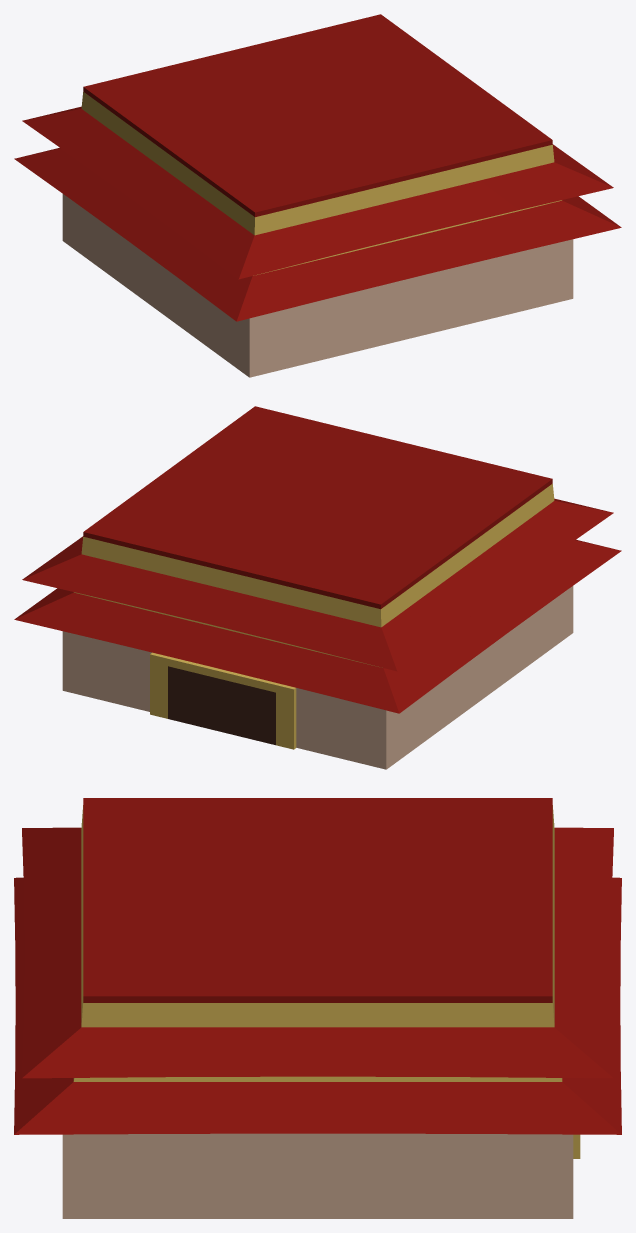
Rendered from temple.fbx.
3 views of the same model, one above another, from view 1: azimuth 30°, elevation 25°; view 2: azimuth 150°, elevation 25°; view 3: azimuth 270°, elevation 25° (orthographic). The views are drawn at different scales.
Parts seen in each view (by area): view 1: roof, temple; view 2: roof, temple, door; view 3: roof, temple.
Boxes of the visible parts, x1,y1,x2,y2 form: roof: (14, 14, 621, 321); temple: (62, 194, 573, 377); roof: (14, 406, 621, 713); temple: (62, 586, 573, 769); door: (150, 652, 296, 749); roof: (14, 798, 621, 1134); temple: (62, 1133, 573, 1218).
Bounding box in the file's own units: 53.56 × 20.77 × 53.56.
